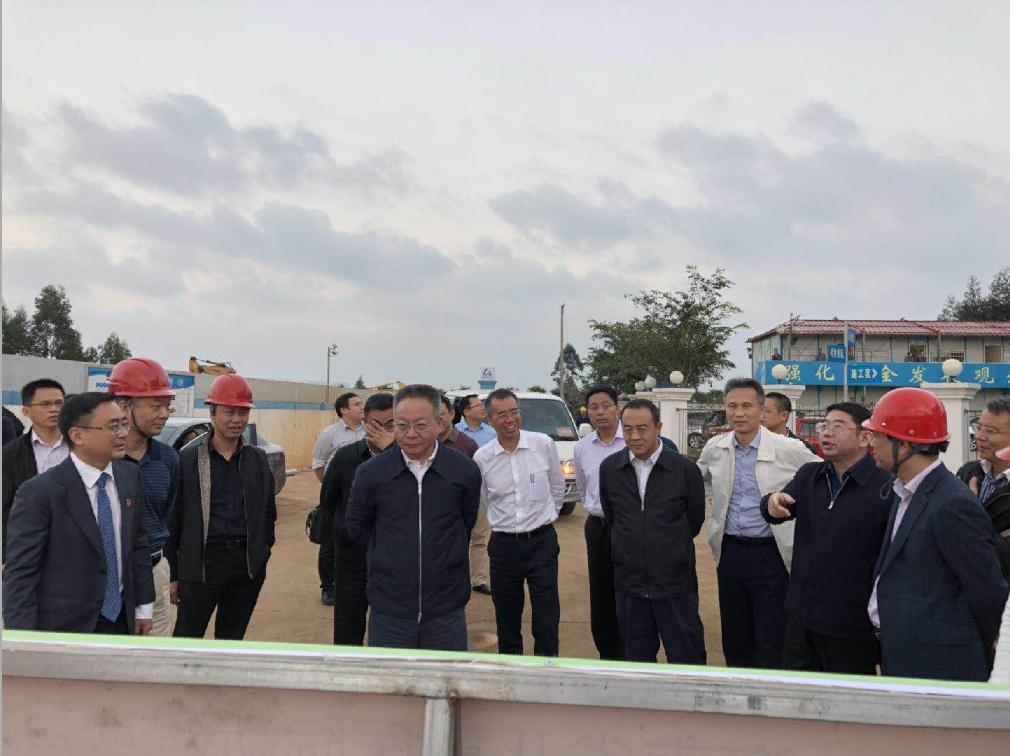none: (55, 392, 130, 463), (386, 383, 442, 455), (815, 402, 870, 463), (614, 400, 665, 455), (721, 374, 764, 436), (974, 395, 1010, 465), (20, 378, 66, 426), (484, 389, 526, 438), (359, 388, 395, 442), (584, 385, 623, 432), (757, 388, 793, 432), (333, 389, 364, 424), (457, 392, 485, 421)
red: (869, 383, 952, 477), (111, 357, 173, 437), (205, 370, 255, 443)
yellow: (577, 406, 587, 416)
